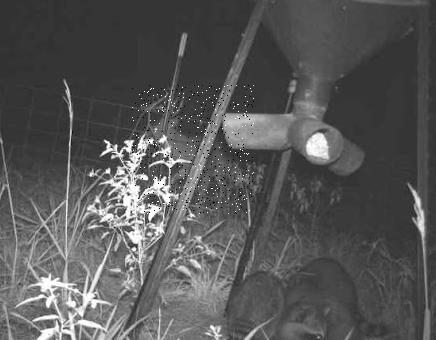Deer: (132, 85, 254, 214)
